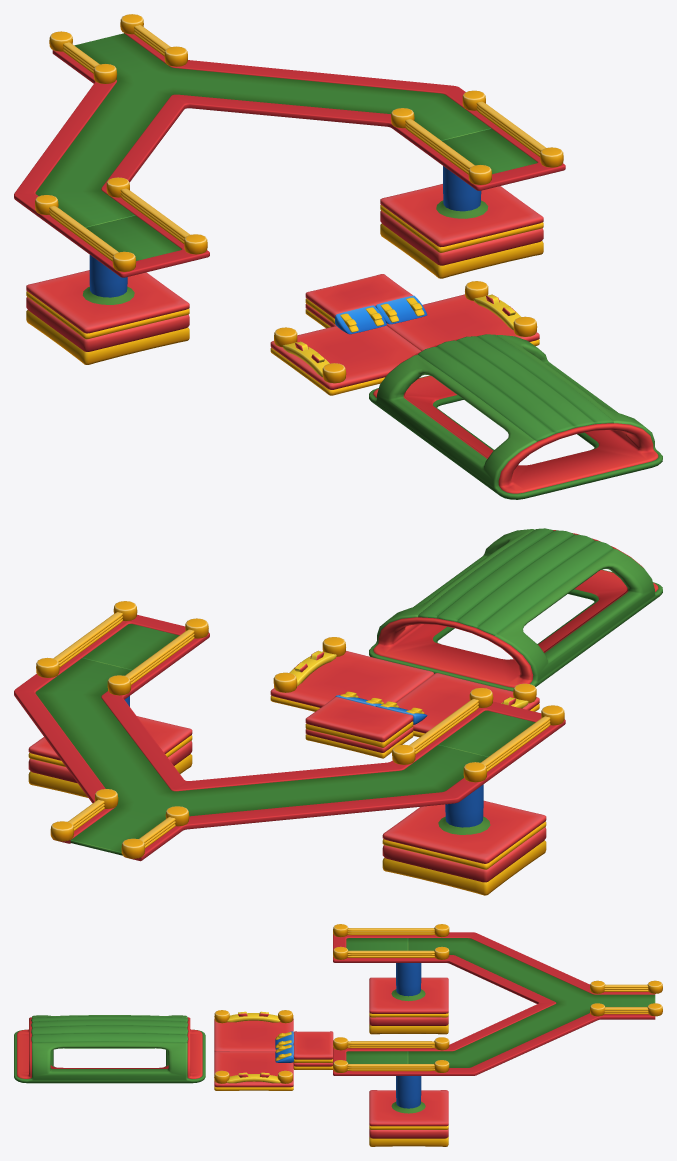
3 renders of one model, top to bottom at view 1: azimuth 30°, elevation 25°; view 2: azimuth 150°, elevation 25°; view 3: azimuth 270°, elevation 25°, orthographic. The views are drawn at different scales.
Visible parts, largest first — view 1: Part2; view 2: Part2; view 3: Part2.
Part boxes in pixels (x1,y1,x2,y2): Part2: (14,14,662,499); Part2: (14,528,662,895); Part2: (14,924,662,1146).
Size of the model in its own units: 34.82 by 8.95 by 65.36.
1 material, 1 textured.
